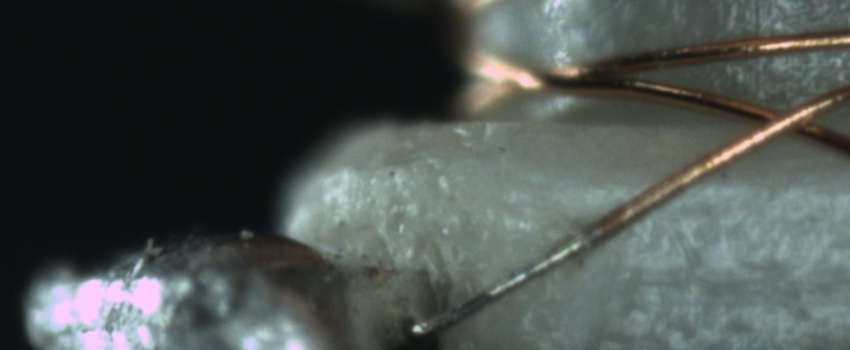CL: (739, 93, 834, 144)
DL: (555, 166, 850, 230), (611, 249, 850, 313)
TS: (406, 220, 603, 340)
TTCW: (402, 189, 653, 337)
